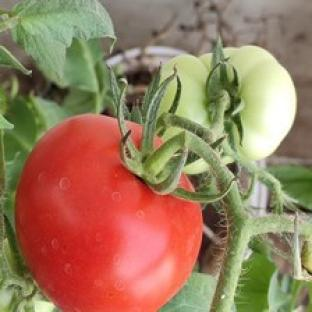Tomato: (16, 115, 201, 311), (223, 46, 296, 160)
